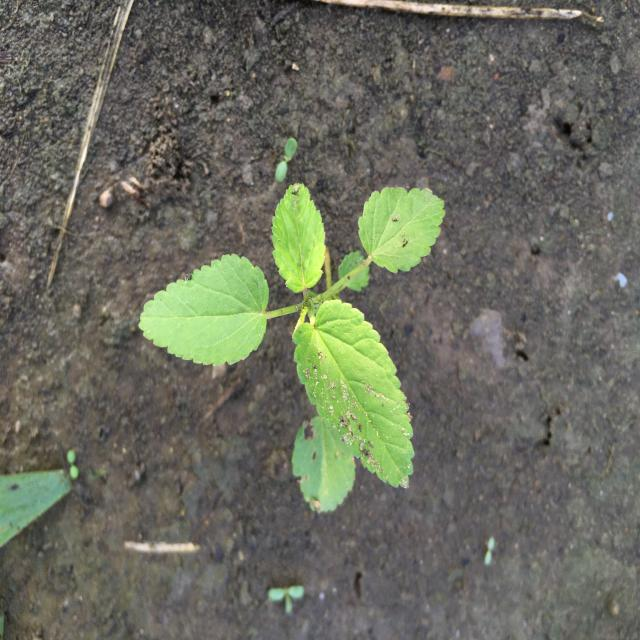PricklySida: (136, 180, 447, 518)
